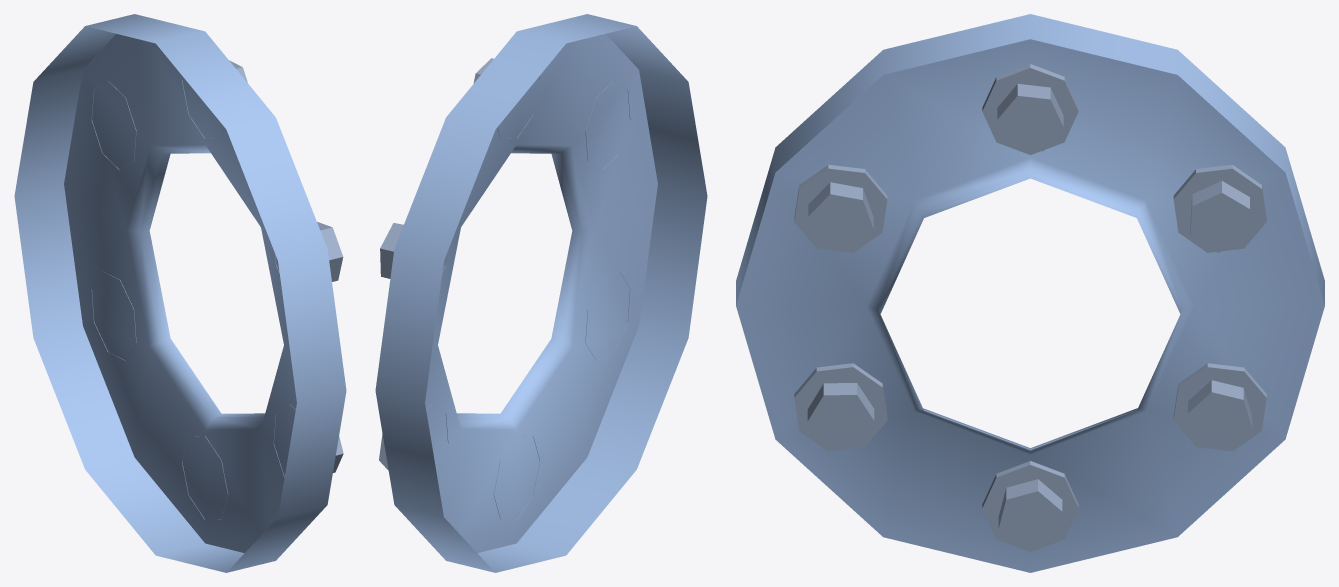
Rendered from PipeSmall_Connector_02_XL_Half.fbx.
3 renders of one model, left to right at view 1: azimuth 30°, elevation 25°; view 2: azimuth 150°, elevation 25°; view 3: azimuth 270°, elevation 25°, orthographic. The views are drawn at different scales.
Parts seen in each view (by area): view 1: PipeSmall_Connector_02_XL_Half.001; view 2: PipeSmall_Connector_02_XL_Half.001; view 3: PipeSmall_Connector_02_XL_Half.001.
Boxes of the visible parts, <box> form: PipeSmall_Connector_02_XL_Half.001: <box>14,14,346,572</box>; PipeSmall_Connector_02_XL_Half.001: <box>375,14,707,572</box>; PipeSmall_Connector_02_XL_Half.001: <box>736,14,1324,572</box>.
Bounding box in the file's own units: 0.0324 × 0.1955 × 0.1955.
